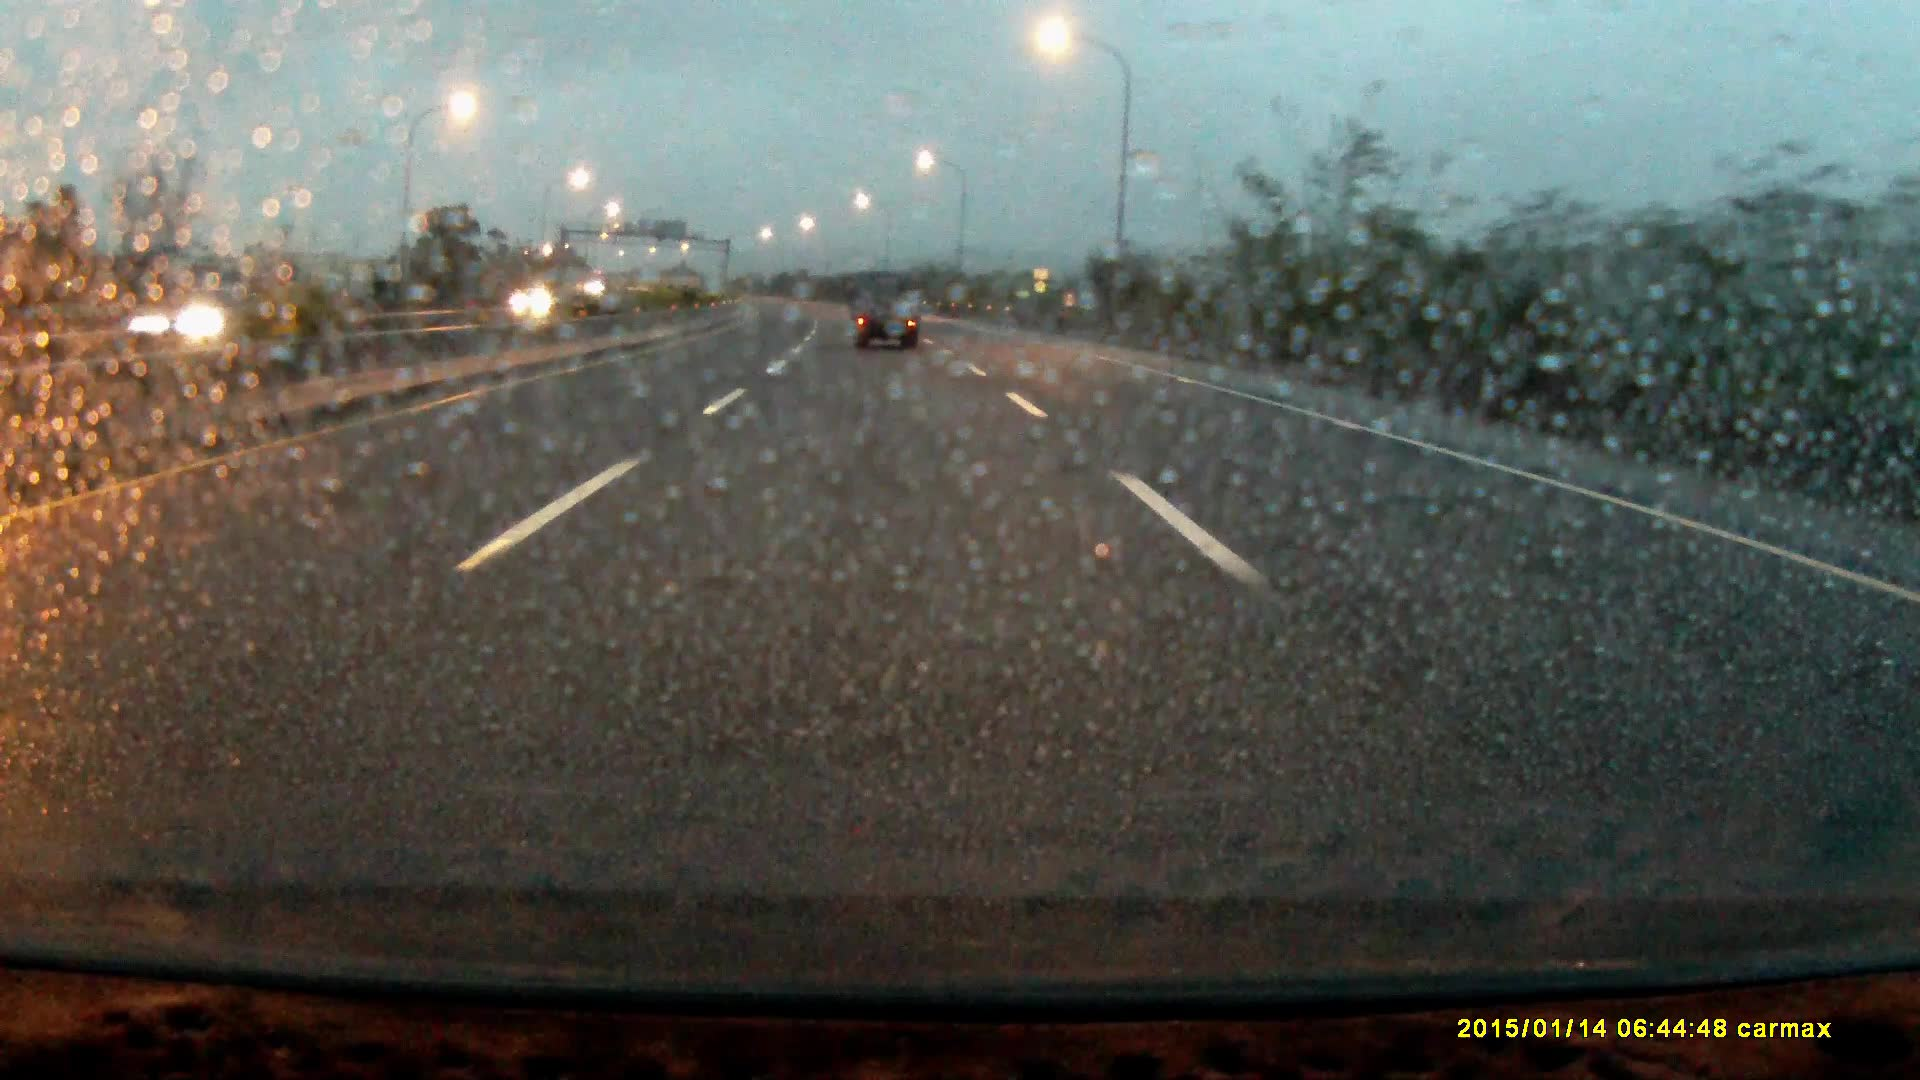vehicle: (847, 273, 920, 352), (510, 290, 571, 320)
